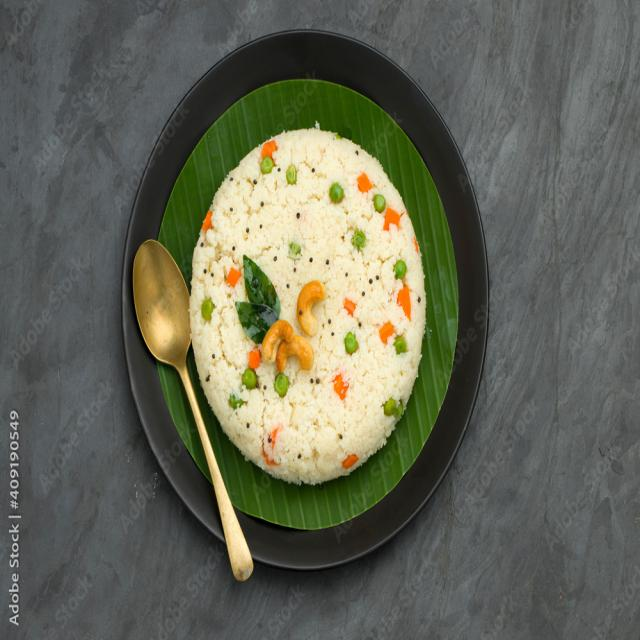UPMA: (189, 129, 425, 484), (189, 129, 425, 483)
